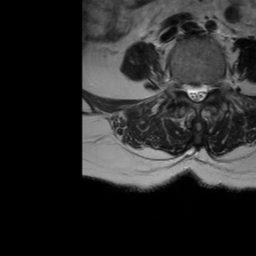CCS_normal: (194, 73, 201, 109)
LFS_normal: (208, 74, 217, 97)
LLS_normal: (201, 73, 208, 106)
RFS_normal: (178, 71, 186, 98)
RLS_normal: (186, 75, 194, 105)
